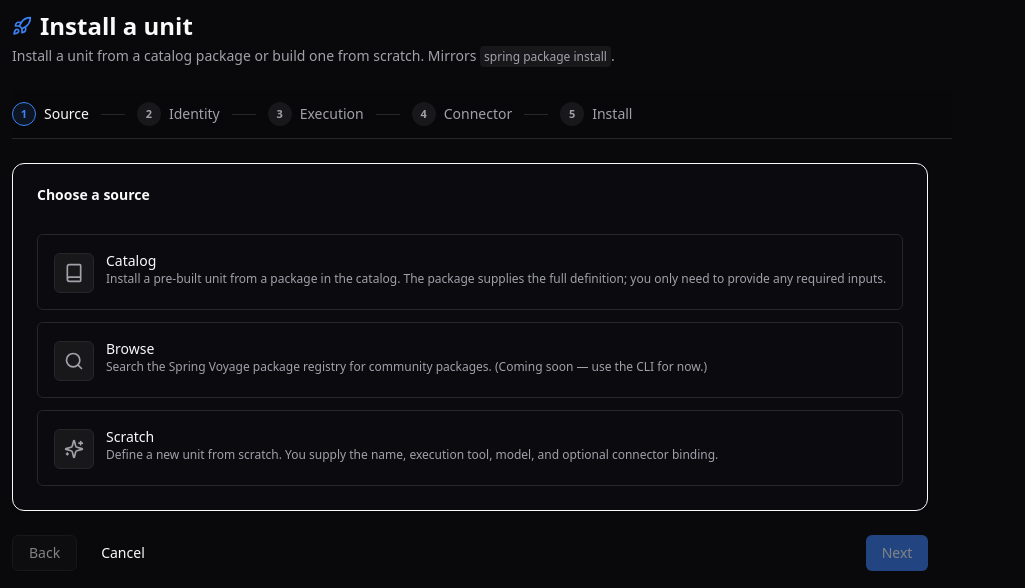
it: CreateUnitPage — catalog branch (#1563) › surfaces a package's required connector — banner, badge, no Skip, gated Next
The image size is (1025, 588).
Click the button with test id "source-card-catalog". click: (470, 272)
box: [37, 234, 903, 310]
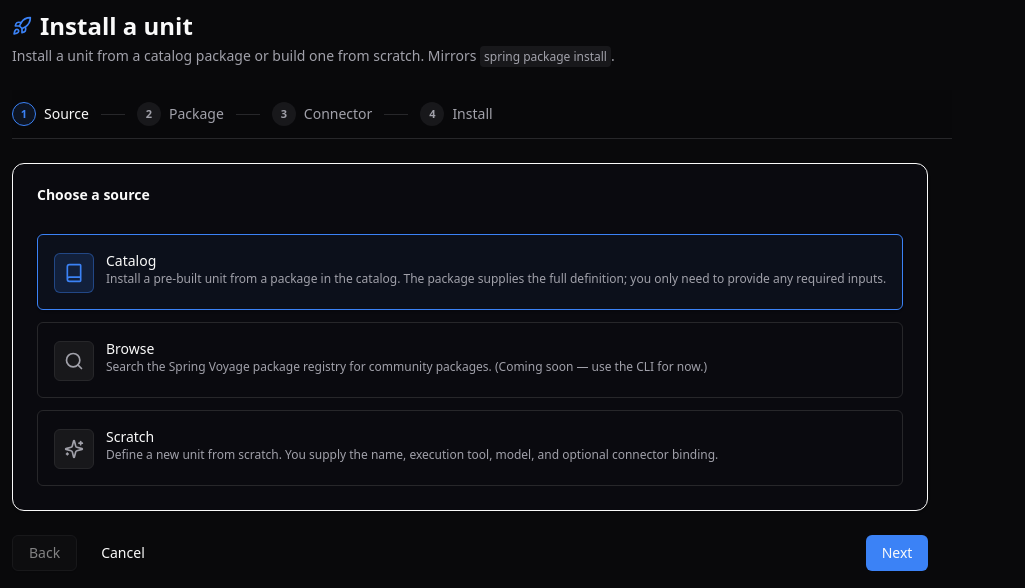
Click the button "Next". click: (897, 553)
box: [866, 535, 928, 571]
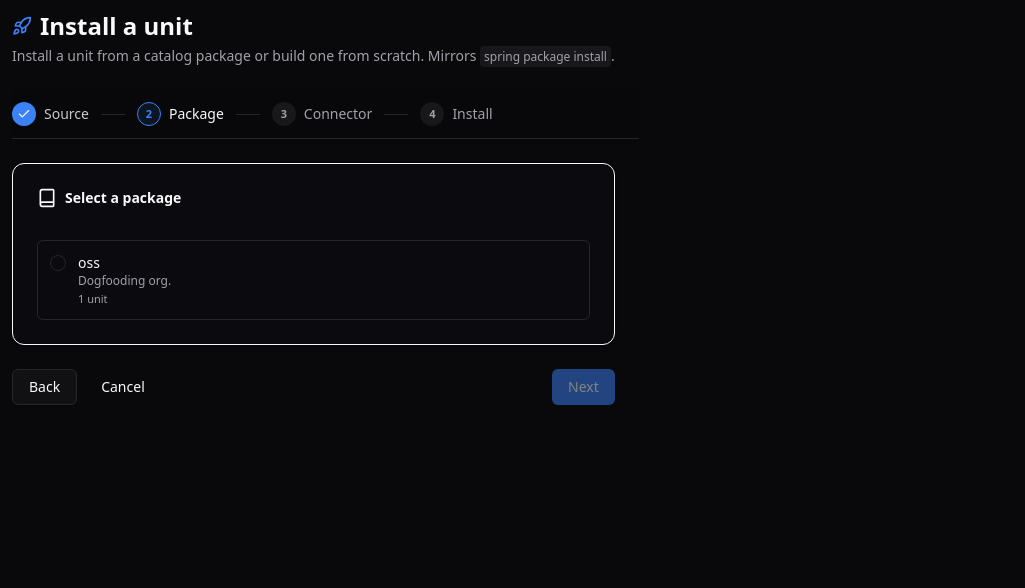
Click the button with test id "package-option-oss". click: (125, 280)
box: [37, 240, 590, 320]
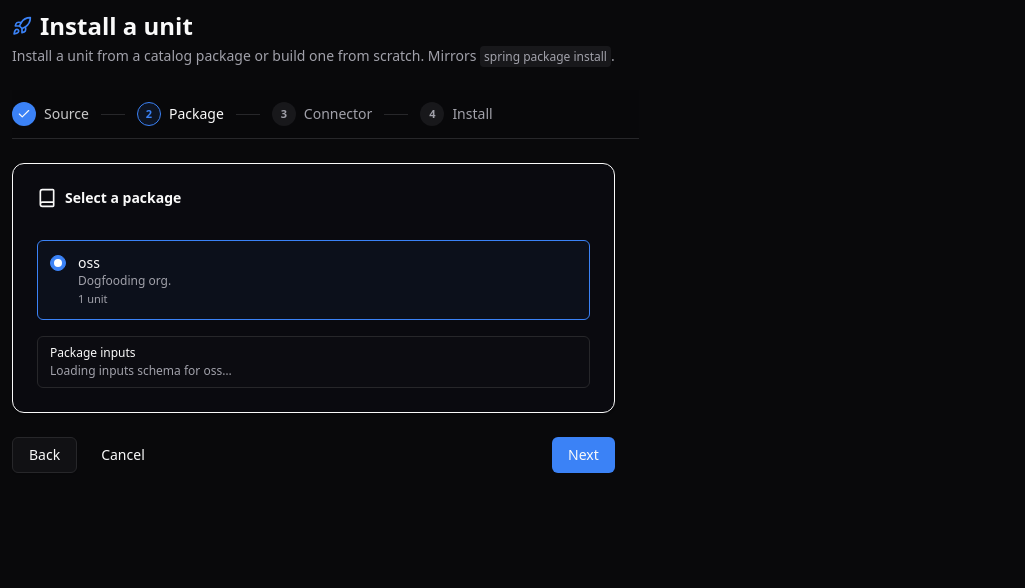
Click the button "Next". click: (583, 455)
box: [552, 437, 615, 473]
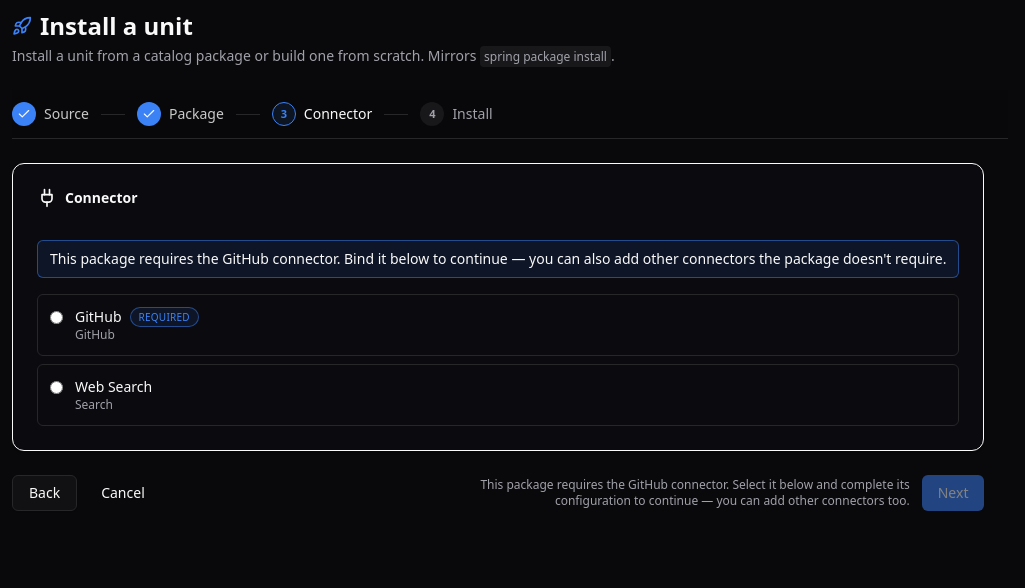
Check: the element with test id "connector-required-banner" shows "requires the GitHub connector", box [37, 240, 959, 278]
Check: the text "Required" is shown, box [130, 307, 199, 327]
Check: the message with test id "next-disabled-reason" shows "requires the GitHub connector", box [480, 476, 910, 509]
